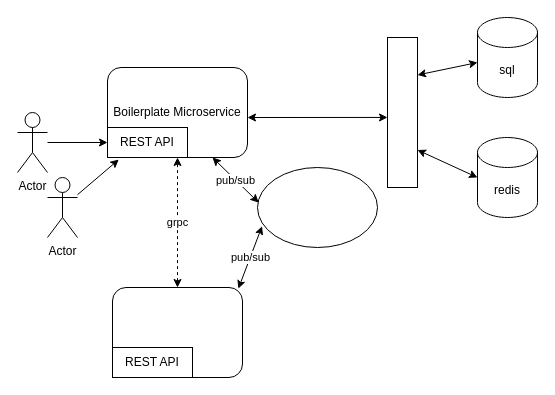
Some shapes in this 555 by 395 pixel diagram are drawn without their labels. Each missing label, with the box of its shape:
2nd Microservice: (112, 286, 242, 378)
Data layer: (386, 36, 418, 188)
Message Broker: (256, 166, 378, 248)
